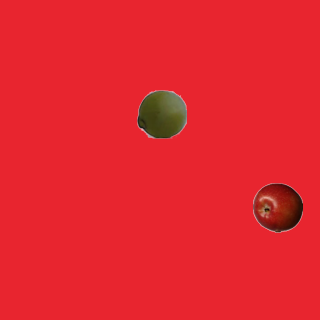Apple Braeburn: (252, 182, 302, 232)
Grape White 4: (136, 88, 186, 138)
